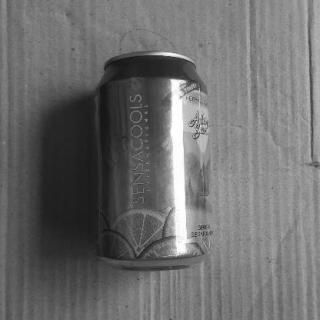alumunium_can: (80, 35, 218, 277)
